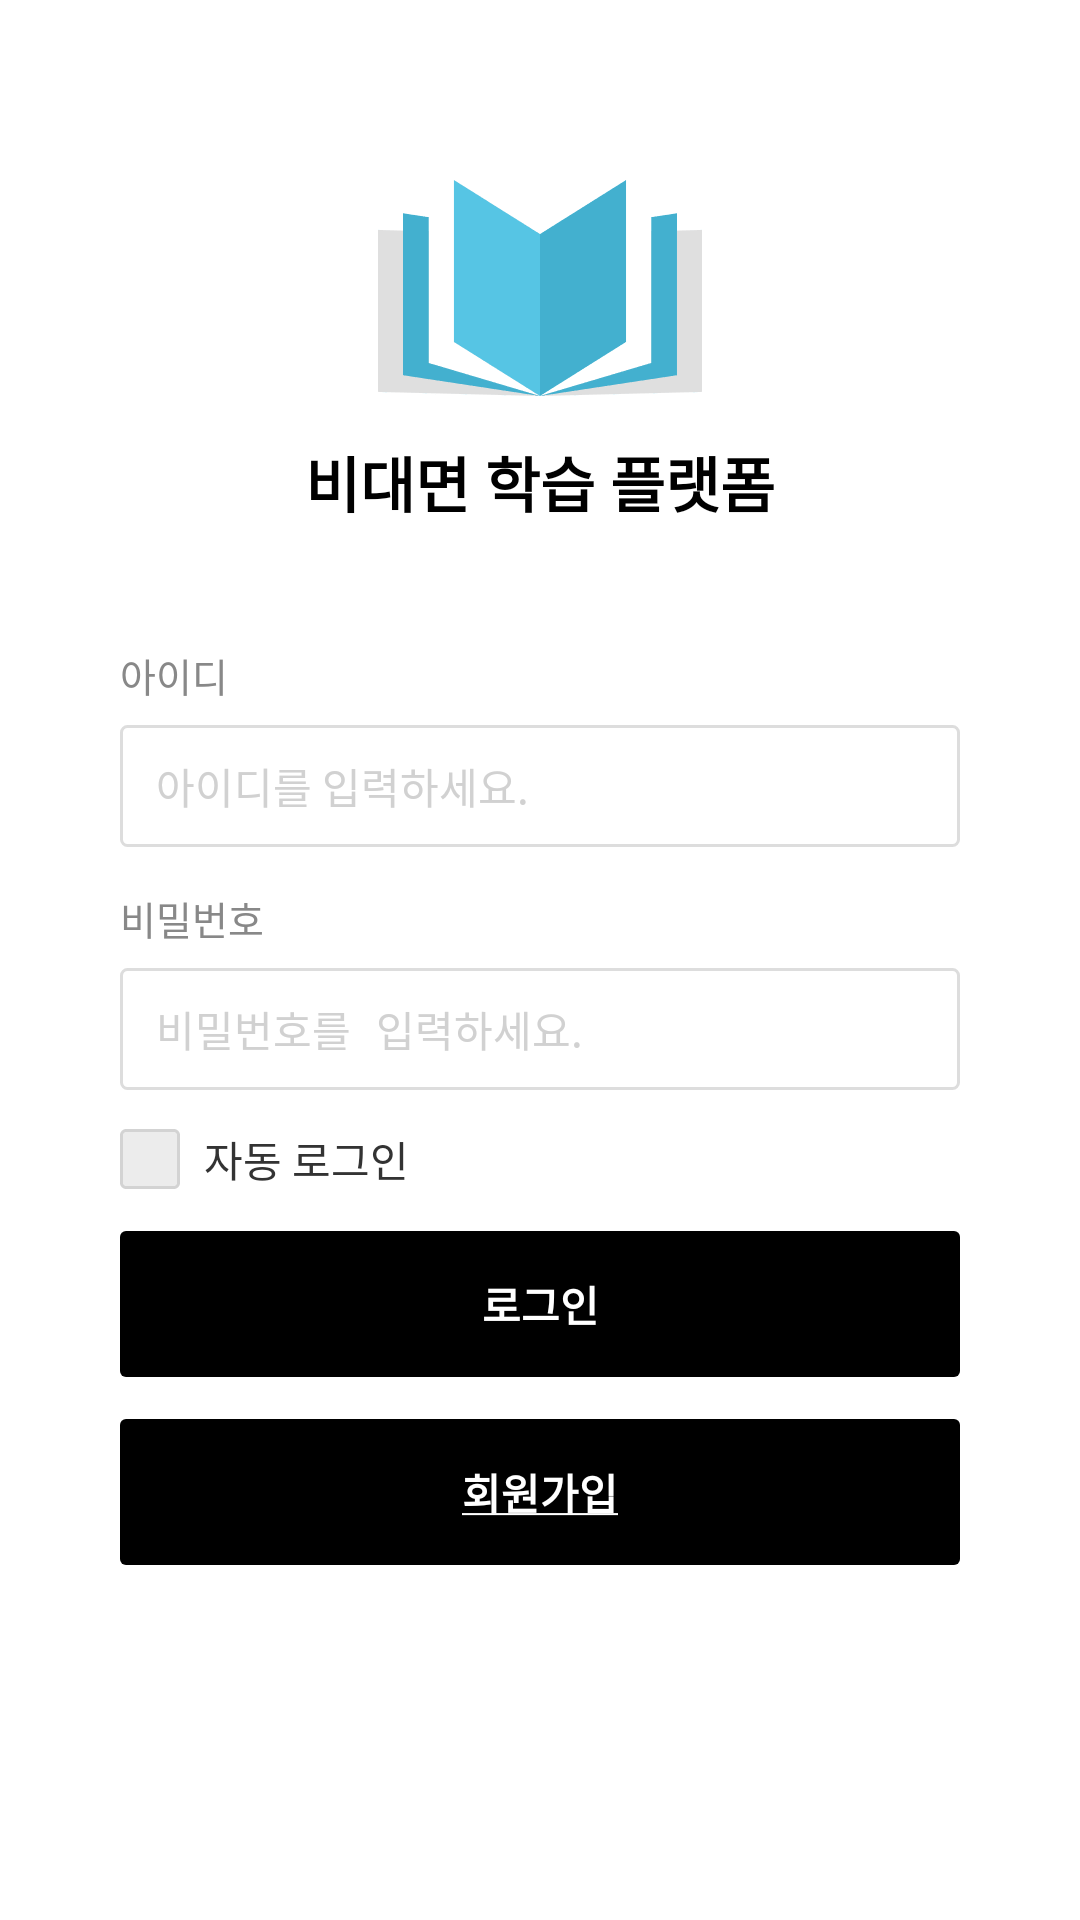

Where icons sit on this 1080 × 1920 app screen, as (x1,y1,x2,y2):
check off: (120,1129,180,1189)
